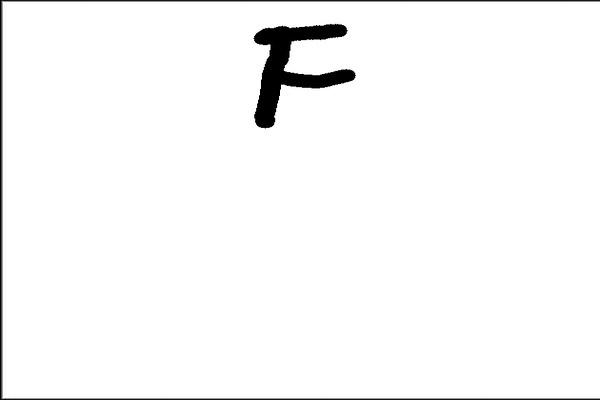F: (248, 21, 359, 131)
